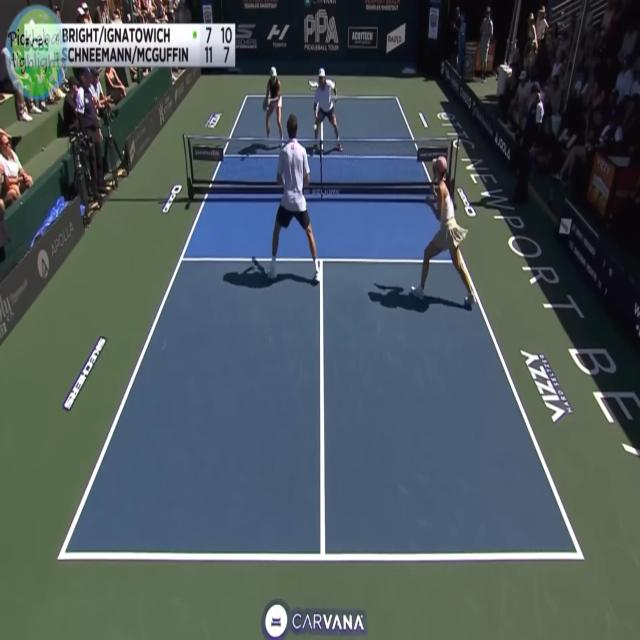ball: (408, 275, 421, 304)
